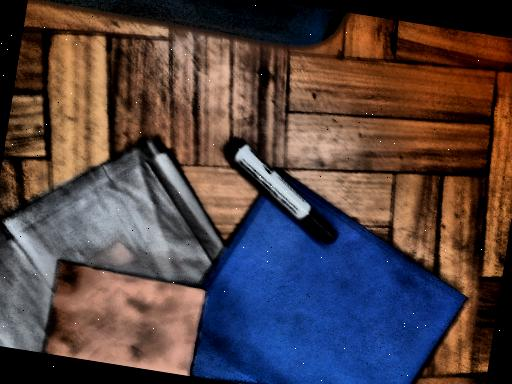marcador negro: (226, 138, 335, 242)
